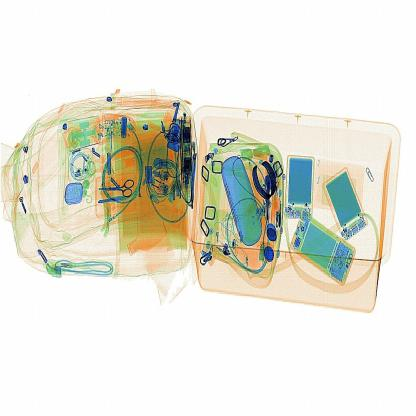knife: (259, 172, 277, 231)
